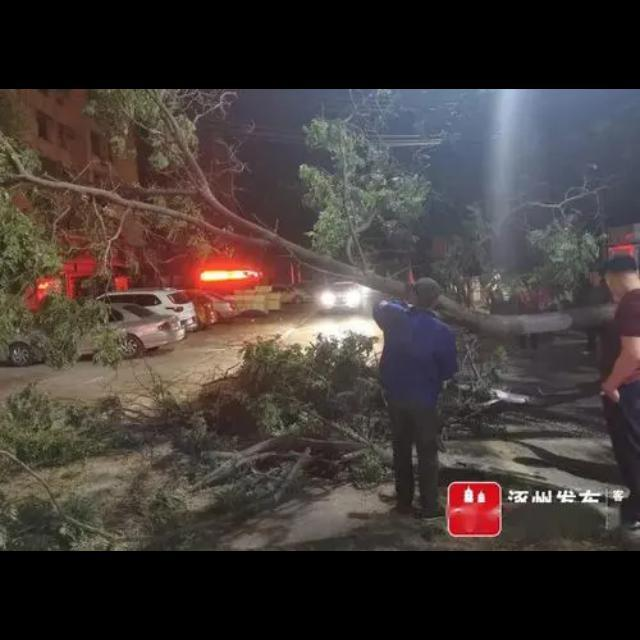fallen_tree: (1, 89, 616, 361), (28, 338, 590, 550)
